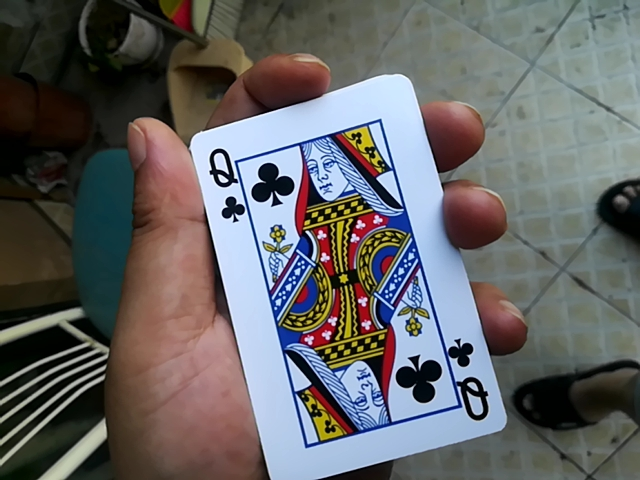mh q: (181, 56, 494, 476)
